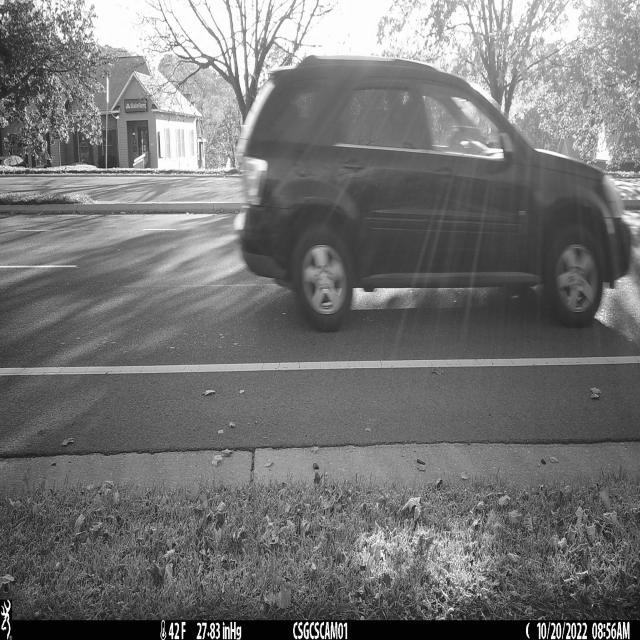SUV: (232, 55, 633, 333)
